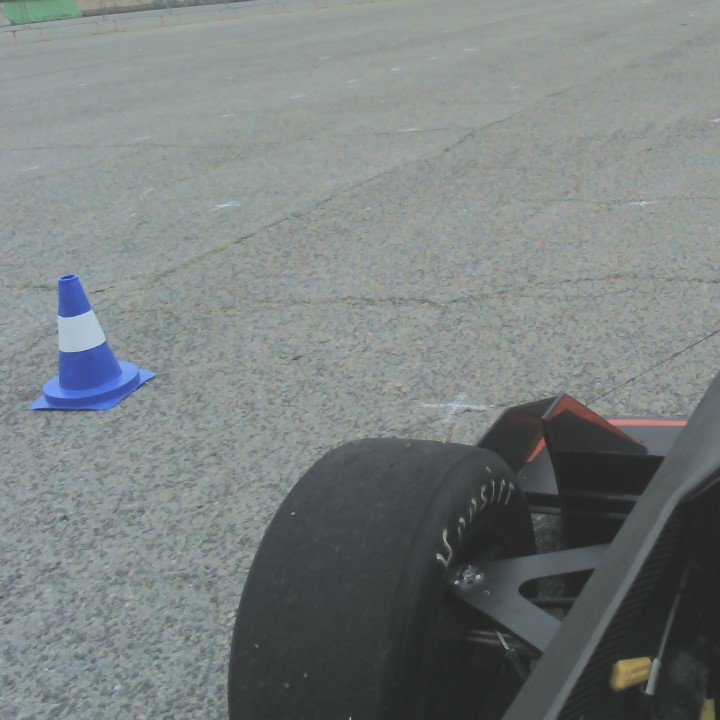cone: (35, 272, 152, 411)
